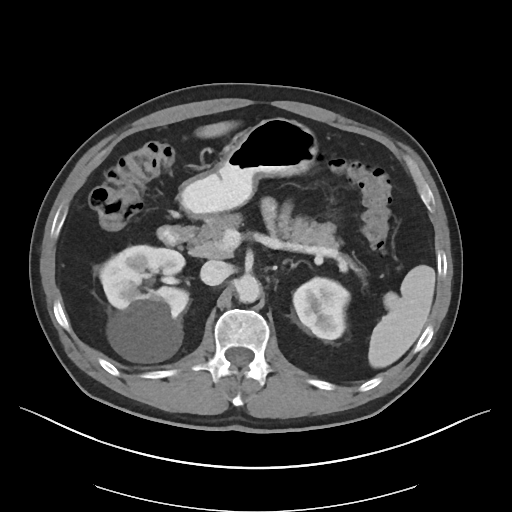Lesion: (101, 292, 189, 365)
